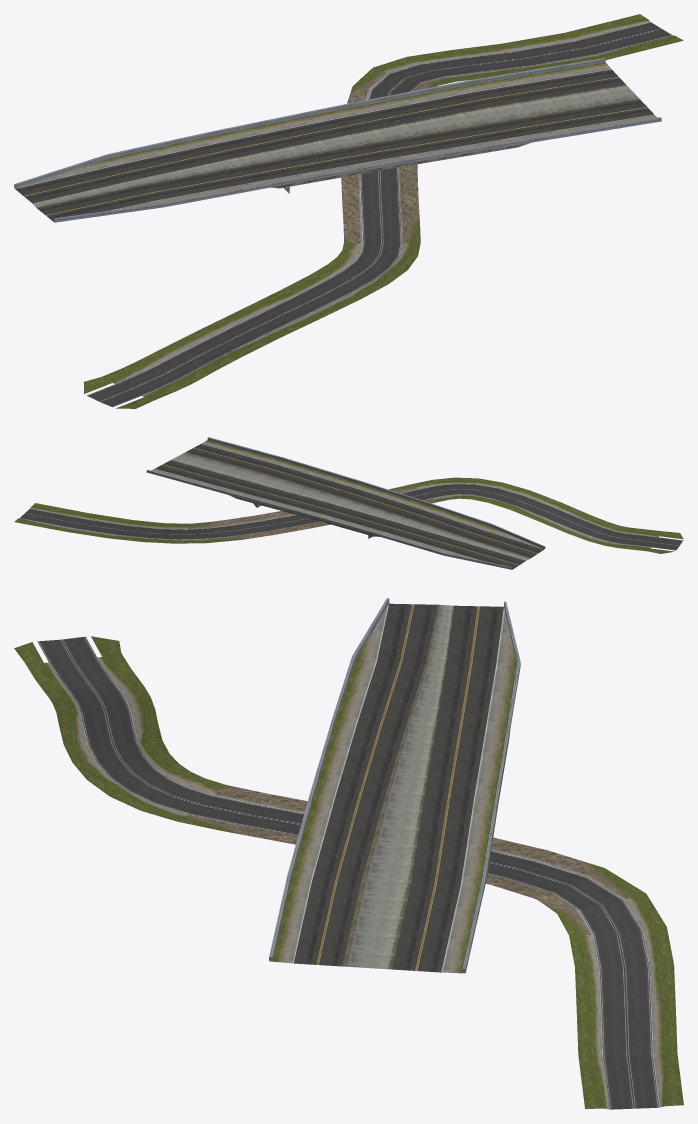
File: cunte_roads48.obj
3 renders of one model, top to bottom at view 1: azimuth 30°, elevation 25°; view 2: azimuth 150°, elevation 25°; view 3: azimuth 270°, elevation 25°, orthographic. The views are drawn at different scales.
Parts seen in each view (by area): view 1: cunte_roads48; view 2: cunte_roads48; view 3: cunte_roads48.
Part boxes in pixels (<box>): cunte_roads48: <box>14,14,683,408</box>; cunte_roads48: <box>14,437,683,569</box>; cunte_roads48: <box>14,598,683,1109</box>.
Bounding box in the file's own units: 239 × 21.38 × 135.
